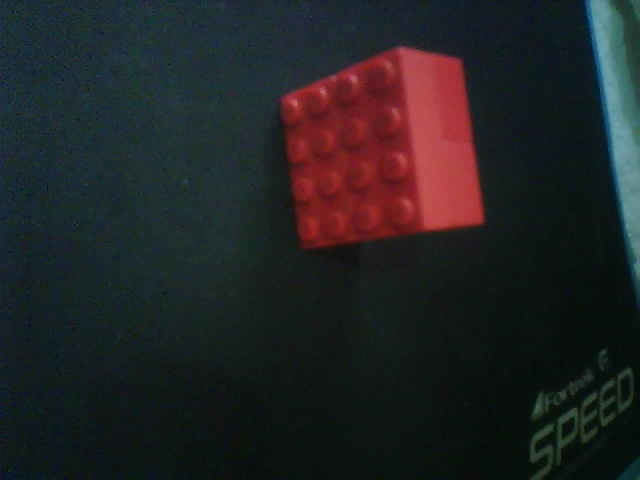lego: (279, 45, 485, 251)
